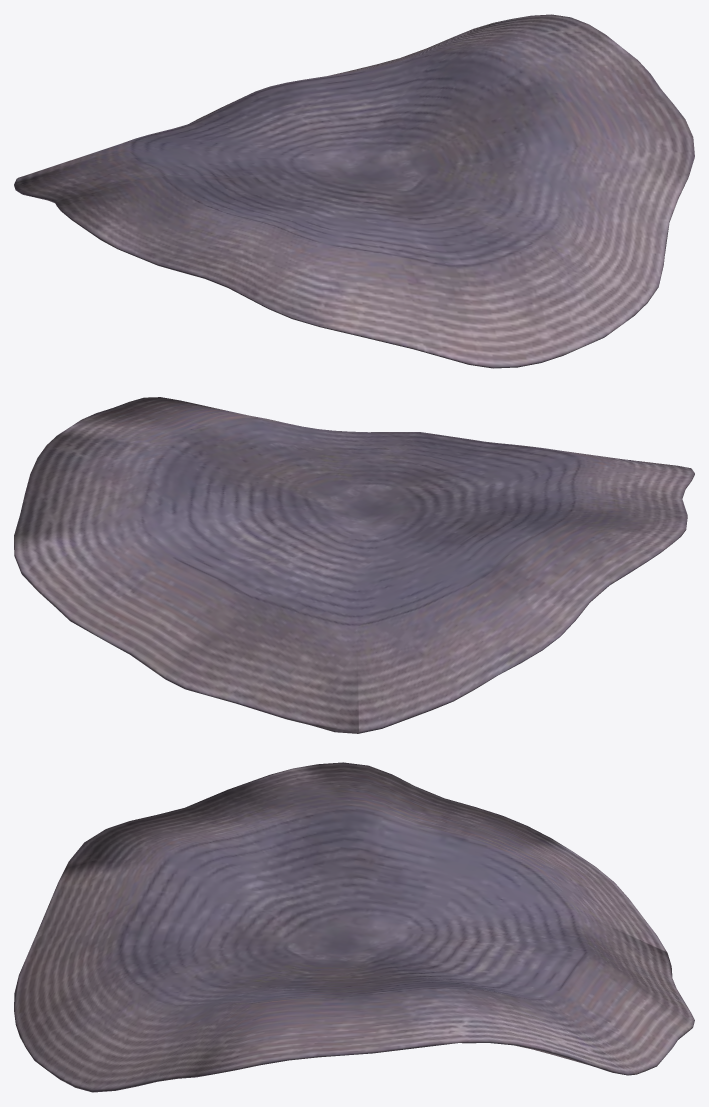
File: PlateCoral03-transformed.glb
3 renders of one model, top to bottom at view 1: azimuth 30°, elevation 25°; view 2: azimuth 150°, elevation 25°; view 3: azimuth 270°, elevation 25°, orthographic. The views are drawn at different scales.
Parts seen in each view (by area): view 1: PlateCoral03; view 2: PlateCoral03; view 3: PlateCoral03.
Boxes of the visible parts, bbox=[...] form: PlateCoral03: bbox=[14, 14, 694, 368]; PlateCoral03: bbox=[14, 397, 694, 733]; PlateCoral03: bbox=[14, 762, 694, 1092].
Size of the model in its own units: 9.48 by 1.96 by 9.33.
Materials: 1 (1 with a texture image).
